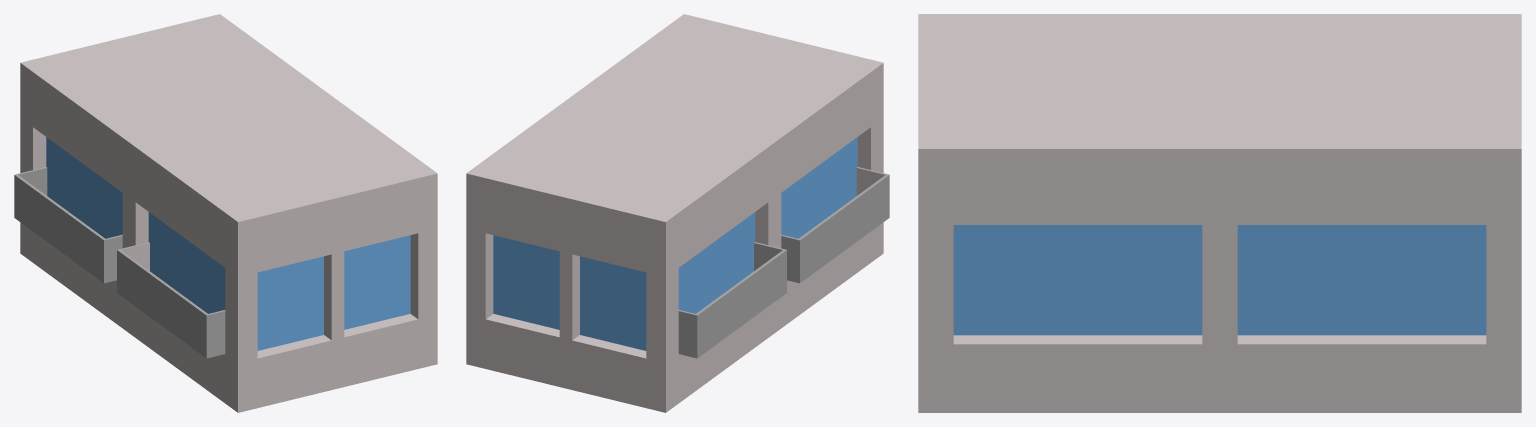
The model's file is building_1x2_7_f.glb.
The picture shows the model from 3 angles, left to right: view 1: azimuth 30°, elevation 25°; view 2: azimuth 150°, elevation 25°; view 3: azimuth 270°, elevation 25°; orthographic projection. The views are drawn at different scales.
Visible parts, largest first — view 1: Cube.001; view 2: Cube.001; view 3: Cube.001.
Boxes of the visible parts, bbox=[...] form: Cube.001: bbox=[14, 14, 437, 412]; Cube.001: bbox=[466, 14, 889, 412]; Cube.001: bbox=[918, 14, 1521, 412].
Size of the model in its own units: 1.92 by 1.6 by 3.31.
